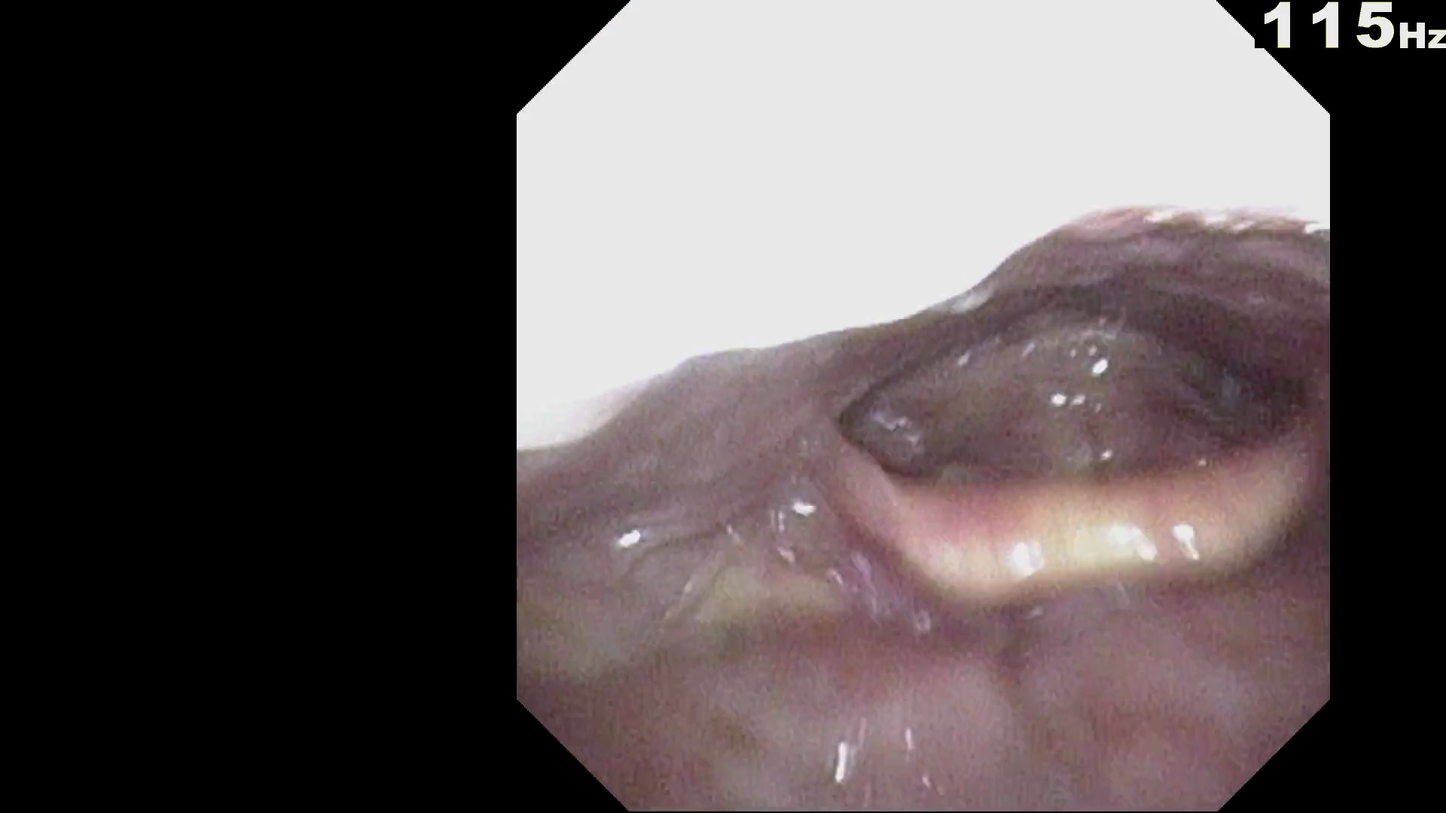epiglottis: (781, 381, 1306, 620)
